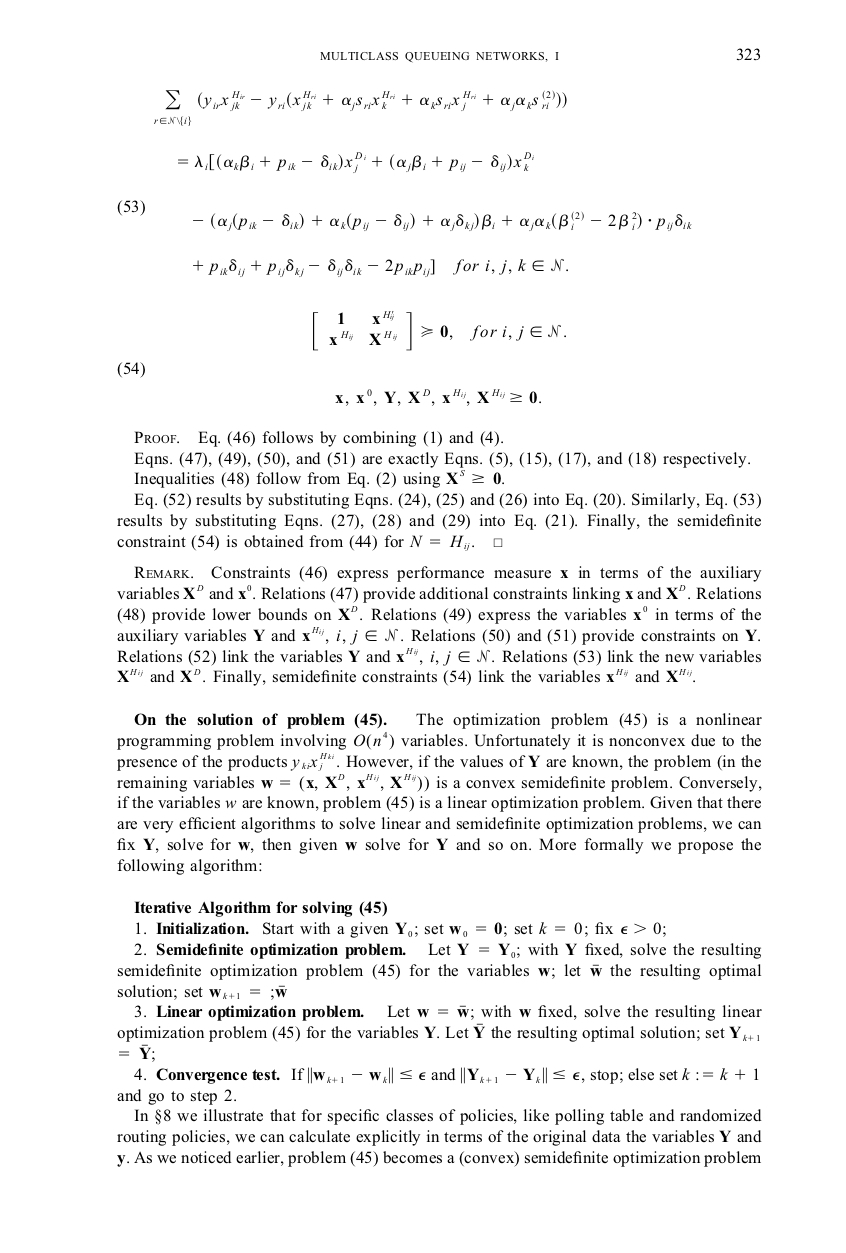formula: (117, 199, 691, 231), (154, 90, 566, 125), (313, 310, 565, 351), (178, 151, 533, 173), (193, 258, 567, 277), (335, 388, 540, 406)
